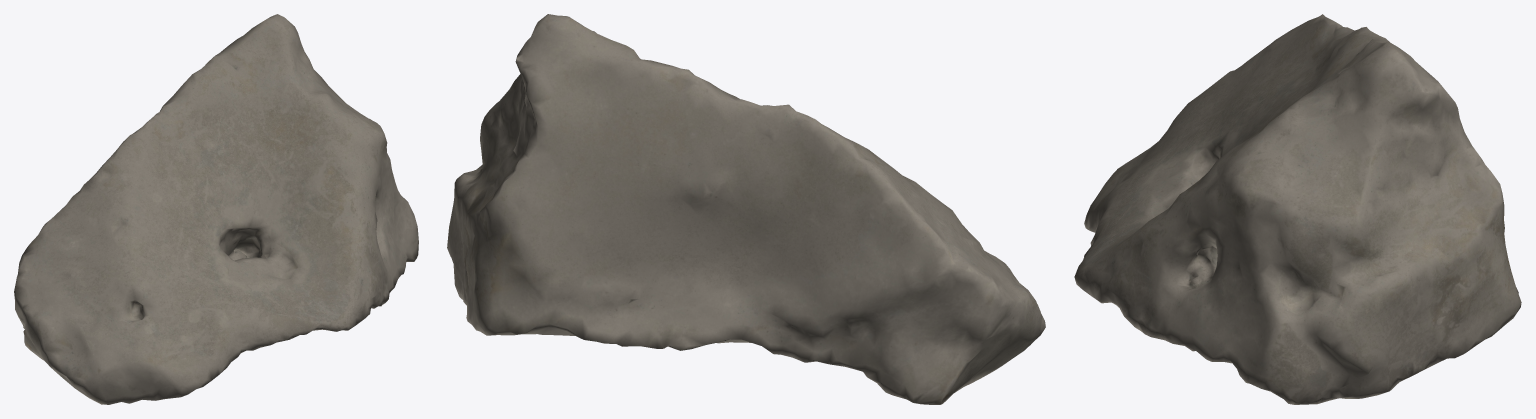
Rendered from moon_rock_07.glb.
3 renders of one model, left to right at view 1: azimuth 30°, elevation 25°; view 2: azimuth 150°, elevation 25°; view 3: azimuth 270°, elevation 25°, orthographic. The views are drawn at different scales.
Parts seen in each view (by area): view 1: moon_rock_07_LOD0; view 2: moon_rock_07_LOD0; view 3: moon_rock_07_LOD0.
Boxes of the visible parts, left/top/right/bottom form: moon_rock_07_LOD0: left=14, top=14, right=418, bottom=404; moon_rock_07_LOD0: left=447, top=14, right=1045, bottom=404; moon_rock_07_LOD0: left=1074, top=14, right=1521, bottom=404.
Bounding box in the file's own units: 0.0968 × 0.0603 × 0.0738.
1 material, 1 textured.
